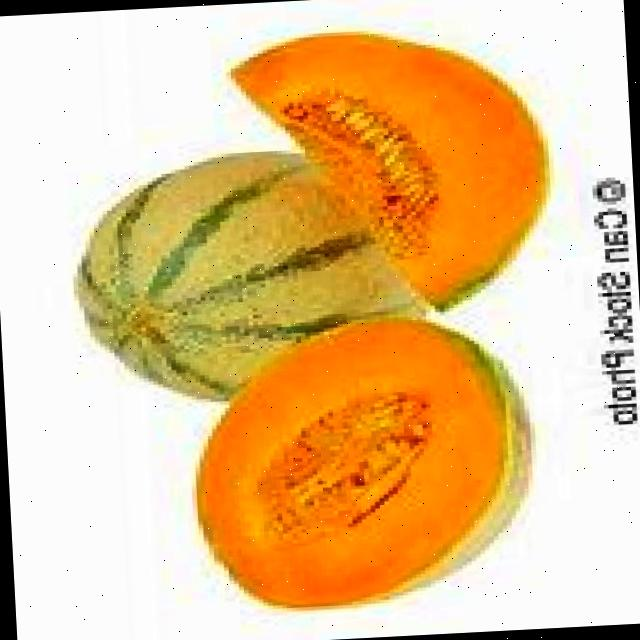Hami Melon: (184, 315, 542, 613), (225, 20, 556, 322), (66, 140, 434, 408)
